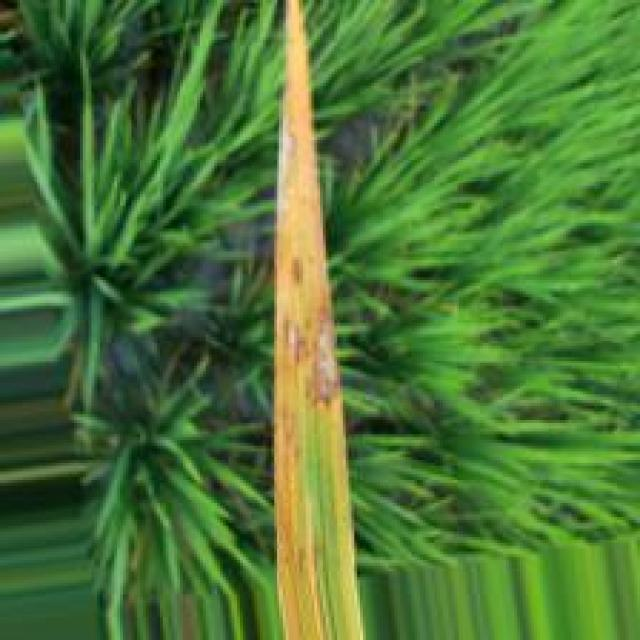Bacterial_Leaf_Blight: (275, 0, 363, 640)
